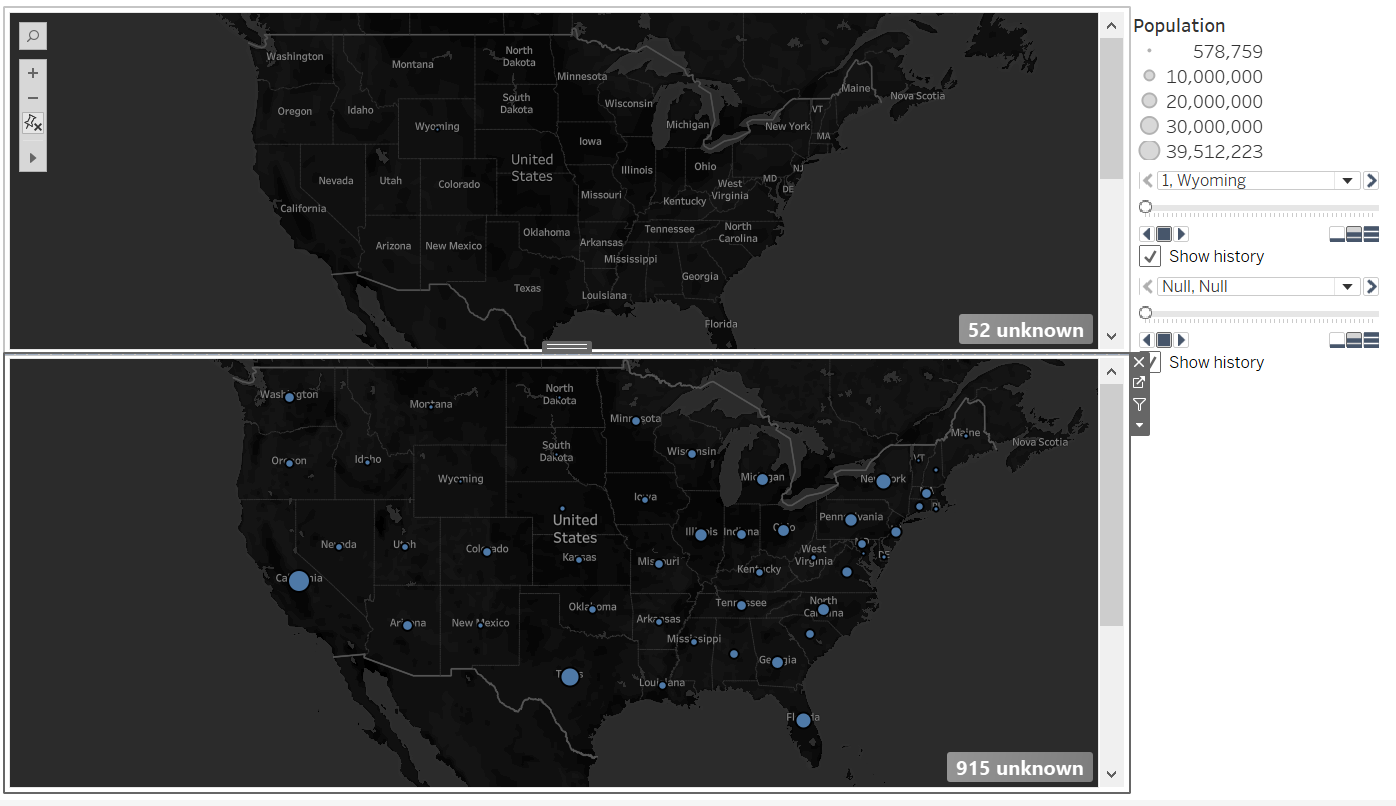

This screenshot's page, from the dashboard's own definition file:
{"tool":"tableau","page":{"name":"Dashboard 1","canvas":[1000,800],"ordinal":0},"visuals":[{"type":"worksheet","box":[0,0,1000,800]},{"type":"worksheet","title":"Sheet 1","mark":"Automatic","rows":["Lat (Sheet13)"],"cols":["Long (Sheet13)"],"box":[8,8,492,392]},{"type":"worksheet","title":"Sheet 4","mark":"Automatic","rows":["Lat (Sheet11)"],"cols":["Long (Sheet11)"],"box":[500,8,492,392]},{"type":"worksheet","title":"Sheet 2","mark":"Automatic","rows":["Lat (Sheet12)"],"cols":["Long (Sheet12)"],"box":[8,400,492,392]},{"type":"worksheet","title":"Sheet 3","mark":"Automatic","rows":["Lat"],"cols":["Long"],"box":[500,400,492,392]}]}

Visuals, with their boxes on the page's 1000x800 design canvas (x1, y1, x2, y2). These are canvas units, not pixel positions in the 1396x806 screenshot, which may show the page scaled, cropped or inside an application window:
worksheet: 0,0,1000,800
"Sheet 1" worksheet: 8,8,500,400
"Sheet 4" worksheet: 500,8,992,400
"Sheet 2" worksheet: 8,400,500,792
"Sheet 3" worksheet: 500,400,992,792
